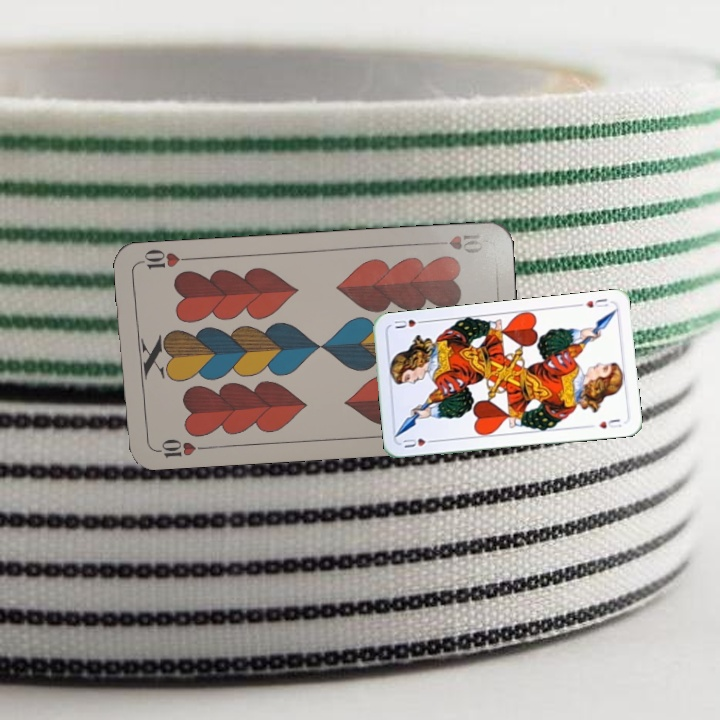H10: (149, 434, 209, 461), (428, 229, 487, 256)
HU: (399, 434, 439, 450), (582, 294, 610, 310)
